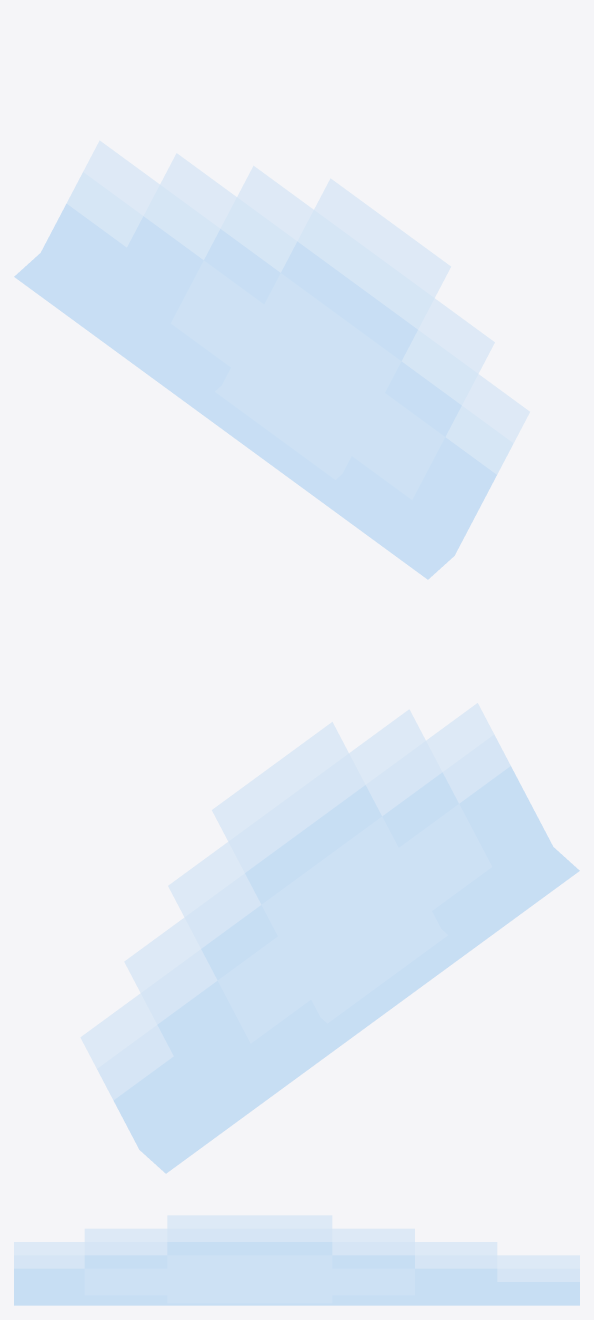
3 renders of one model, top to bottom at view 1: azimuth 30°, elevation 25°; view 2: azimuth 150°, elevation 25°; view 3: azimuth 270°, elevation 25°, orthographic. The views are drawn at different scales.
Size of the model in its own units: 0.2119 by 0.3007 by 1.
1 material, 1 textured.
